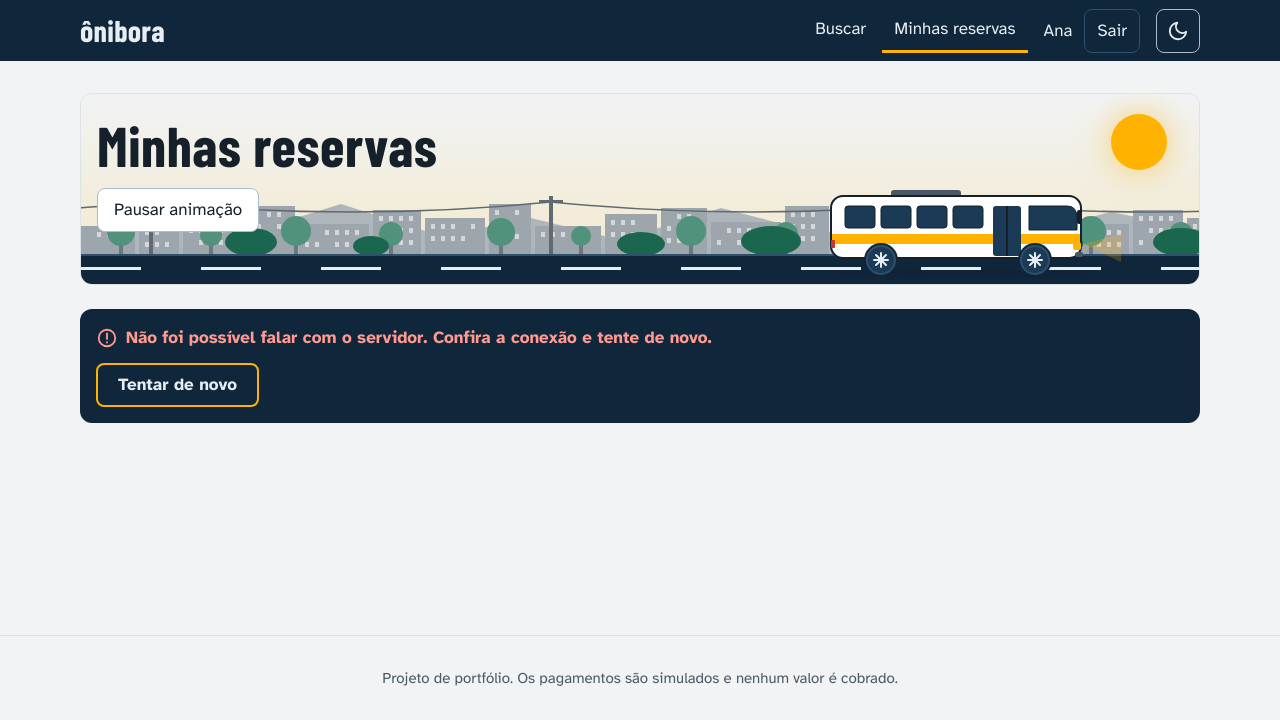
Scenario: MyReservationsPage › com falha de rede, mostra o erro e "Tentar de novo" busca outra vez
Expected: the message shows "Não foi possível falar com o servidor. Confira a conexão e tente de novo.", [126,327,712,348]
Step 1. Click the button "Tentar de novo" → [178, 384], box [96,362,259,406]
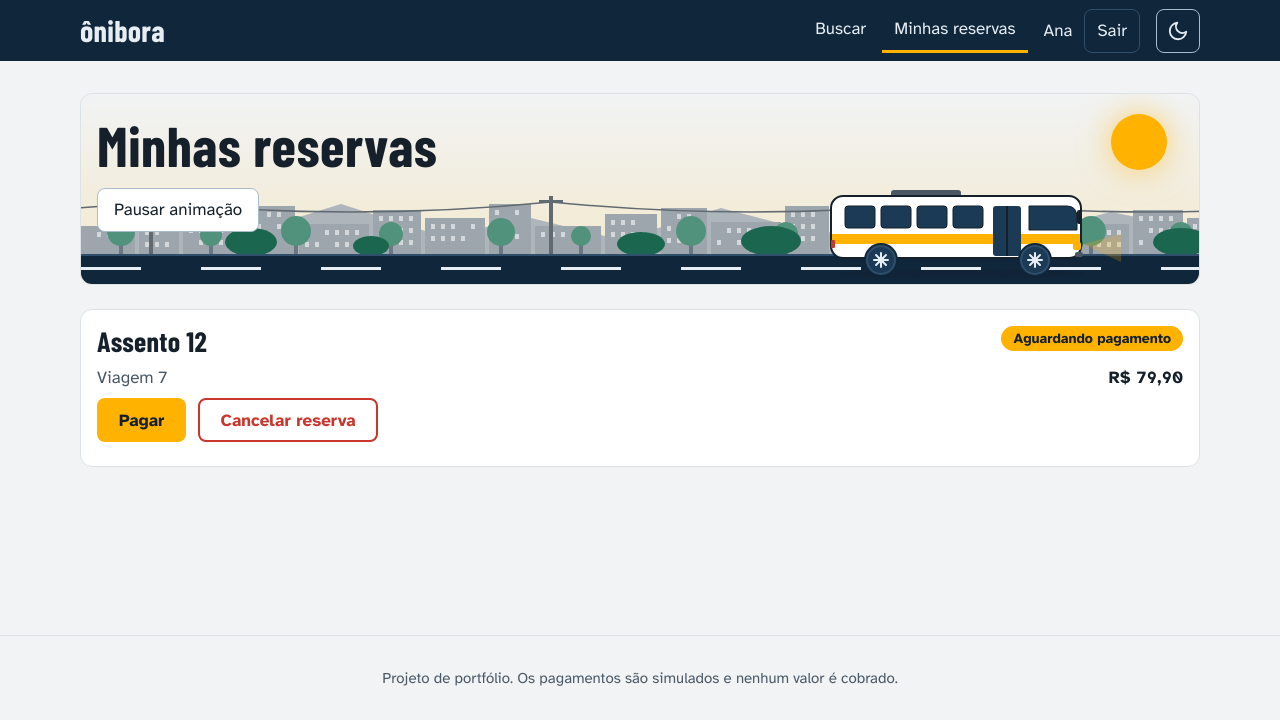
Result: the text "Assento 12" is shown at [97,324,207,358]
